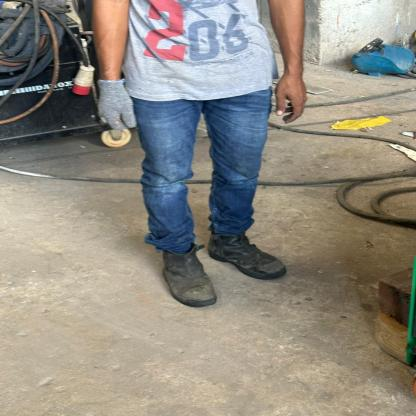bota: (204, 223, 300, 283), (158, 238, 222, 310)
